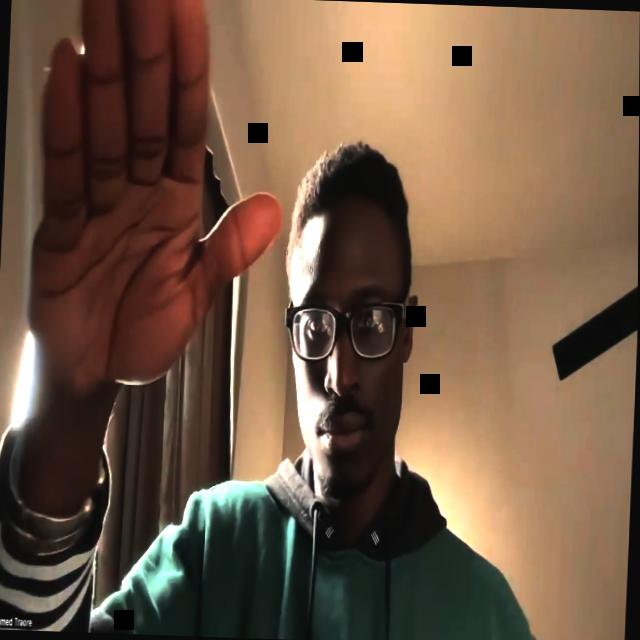Paper: (23, 0, 290, 401)
